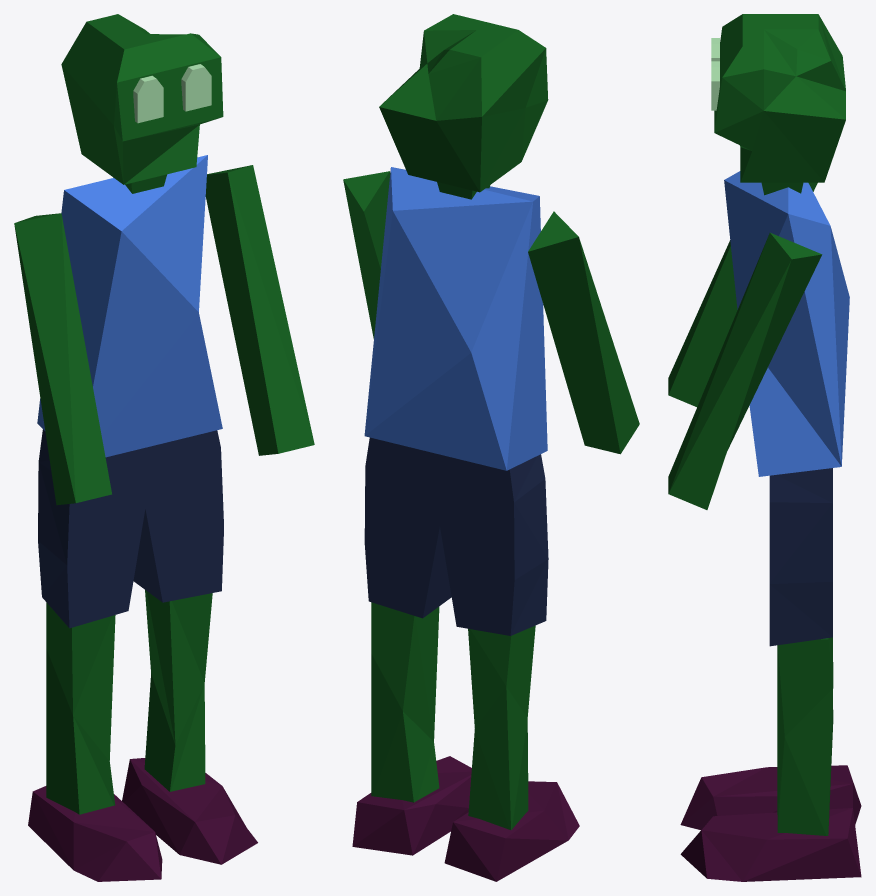
Rendered from zombie1.0.fbx.
The picture shows the model from 3 angles, left to right: view 1: azimuth 30°, elevation 25°; view 2: azimuth 150°, elevation 25°; view 3: azimuth 270°, elevation 25°; orthographic projection.
Parts seen in each view (by area): view 1: ZBody, ZPants, ZombieHead(Root), ZArmLeft, ZArmRight, ZLegRight, ZLegLeft, ZFootRight, ZFootLeft, ZEyeRight, ZEyeLeft; view 2: ZBody, ZPants, ZombieHead(Root), ZArmRight, ZLegLeft, ZLegRight, ZFootRight, ZFootLeft, ZArmLeft; view 3: ZBody, ZombieHead(Root), ZArmLeft, ZPants, ZLegLeft, ZFootLeft, ZFootRight, ZArmRight, ZEyeLeft.
Boxes of the visible parts, box(x1,y1,x2,y2) form: ZBody: box(37, 155, 222, 457); ZPants: box(38, 429, 223, 628); ZombieHead(Root): box(61, 14, 223, 193); ZArmLeft: box(205, 165, 314, 455); ZArmRight: box(14, 213, 111, 505); ZLegRight: box(46, 602, 115, 814); ZLegLeft: box(144, 590, 212, 791); ZFootRight: box(28, 786, 162, 881); ZFootLeft: box(122, 758, 257, 864); ZEyeRight: box(133, 75, 163, 123); ZEyeLeft: box(181, 64, 211, 111); ZBody: box(364, 167, 547, 470); ZPants: box(364, 437, 548, 635); ZombieHead(Root): box(379, 14, 548, 199); ZArmRight: box(528, 211, 639, 454); ZLegLeft: box(371, 602, 439, 802); ZLegRight: box(468, 625, 535, 829); ZFootRight: box(444, 781, 579, 881); ZFootLeft: box(352, 756, 471, 855); ZArmLeft: box(343, 171, 390, 338); ZBody: box(724, 171, 849, 476); ZombieHead(Root): box(714, 14, 845, 195); ZArmLeft: box(668, 232, 822, 509); ZPants: box(769, 468, 832, 646); ZLegLeft: box(777, 638, 833, 835); ZFootLeft: box(680, 808, 861, 881); ZFootRight: box(680, 765, 861, 829); ZArmRight: box(668, 182, 817, 406); ZEyeLeft: box(711, 61, 719, 110).
Size of the model in its own units: 433 by 1404 by 303.
